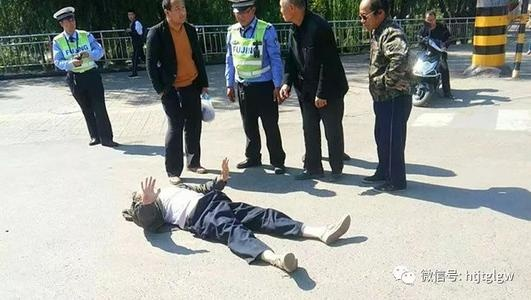falling: (109, 152, 359, 278)
